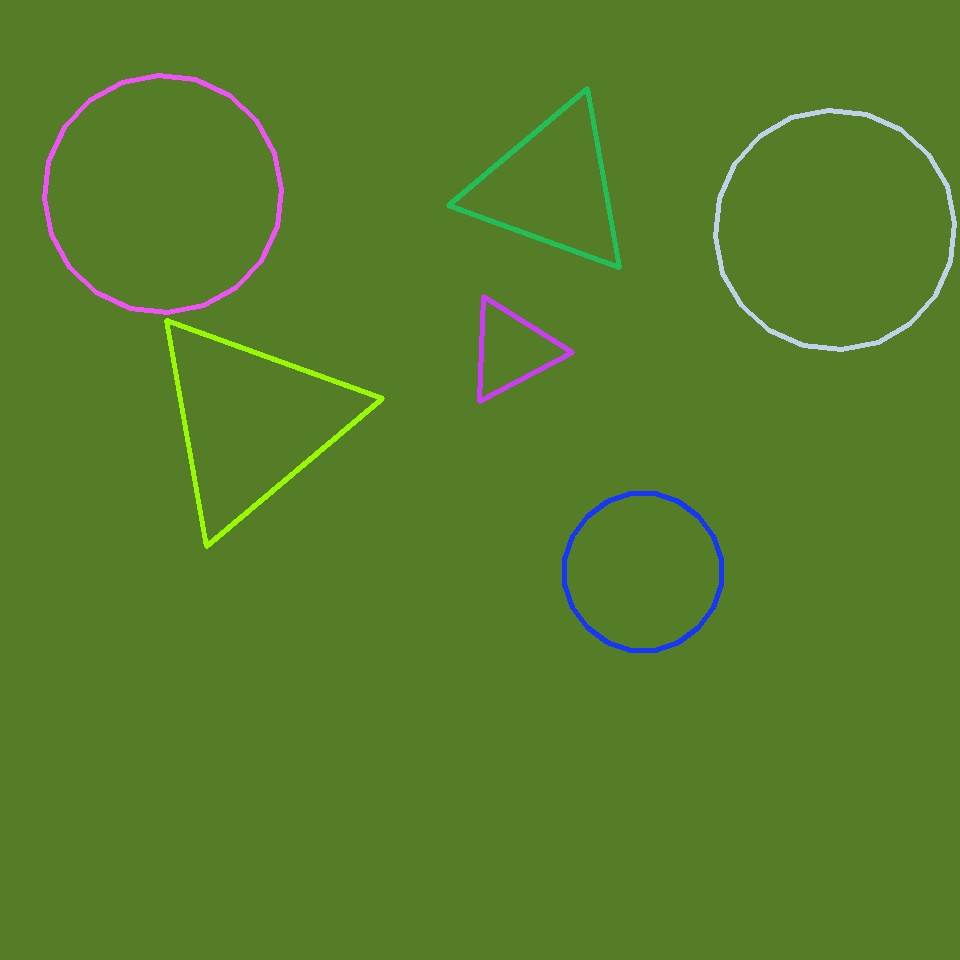circle: (144, 309, 360, 535), (466, 98, 638, 276), (466, 298, 558, 402)
triangle: (715, 110, 954, 350), (44, 76, 282, 313), (564, 494, 722, 650)
